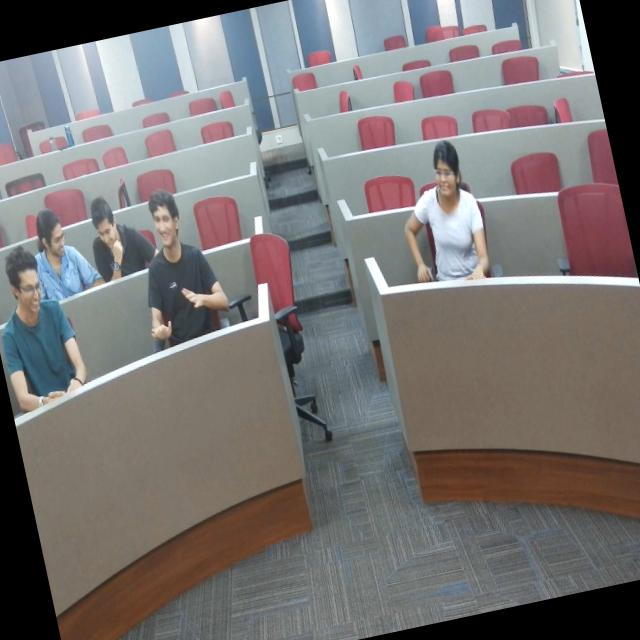cheating: (118, 180, 233, 362), (0, 255, 79, 418), (81, 180, 141, 284)
non-cheating: (399, 130, 488, 258), (24, 196, 86, 310), (424, 268, 429, 286)
